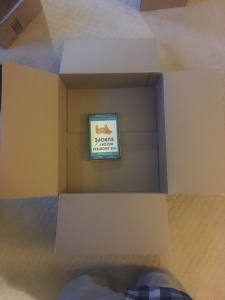innerbox: (57, 73, 166, 196)
outerbox: (3, 40, 221, 250)
product: (89, 114, 121, 161)
